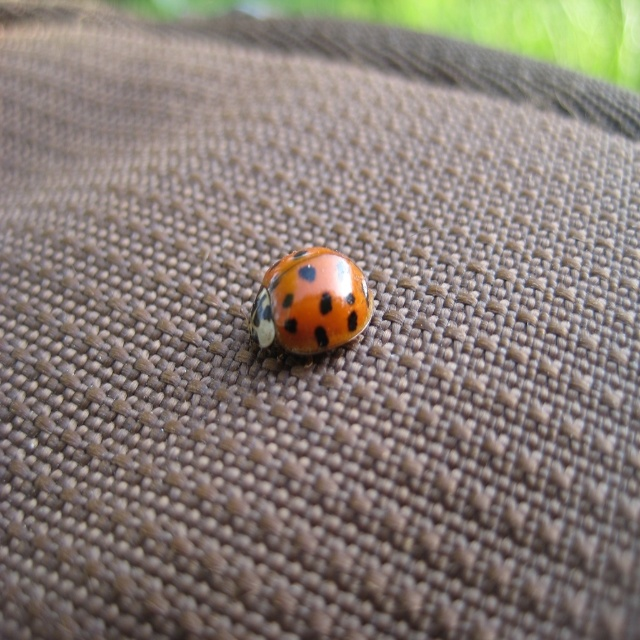Ladybug: (244, 239, 374, 361)
